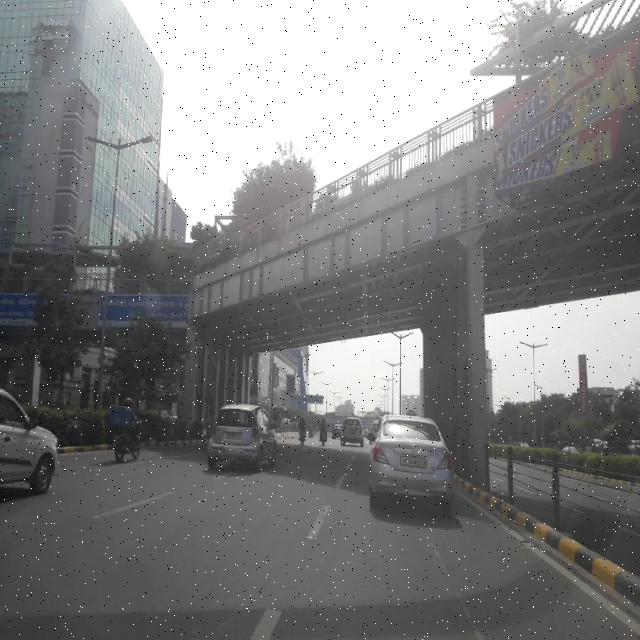D00: (414, 516, 492, 638)
